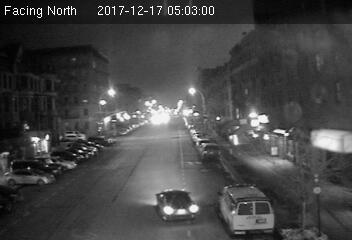car: (154, 187, 201, 223)
police: (216, 183, 276, 233)
